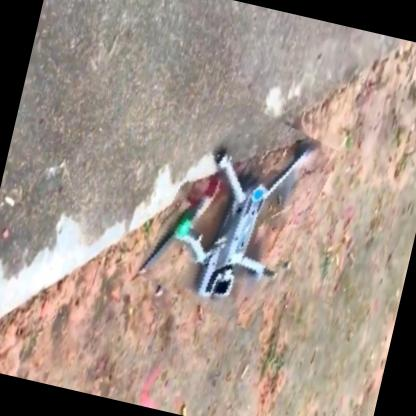drone: (141, 93, 335, 334)
